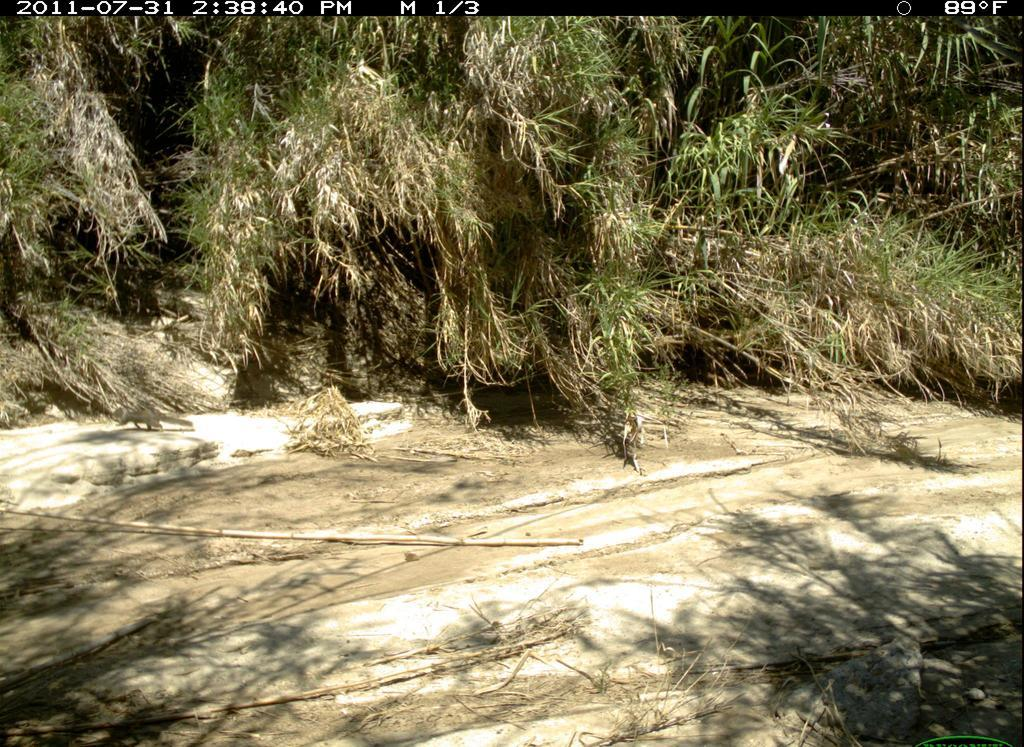squirrel: (103, 396, 214, 456)
